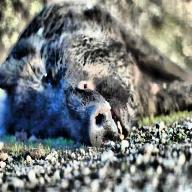boar: (1, 0, 192, 151)
